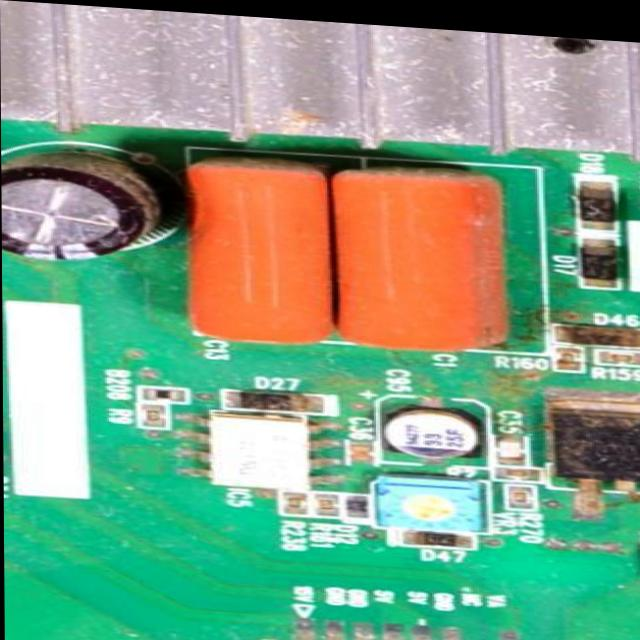IC: (174, 407, 343, 489)
capacitor: (379, 395, 453, 452), (498, 428, 528, 461)
resistor: (280, 486, 309, 512), (506, 477, 535, 503), (141, 401, 166, 427), (313, 489, 339, 513), (599, 342, 640, 357), (556, 341, 581, 364)
transistor: (565, 402, 640, 475)
